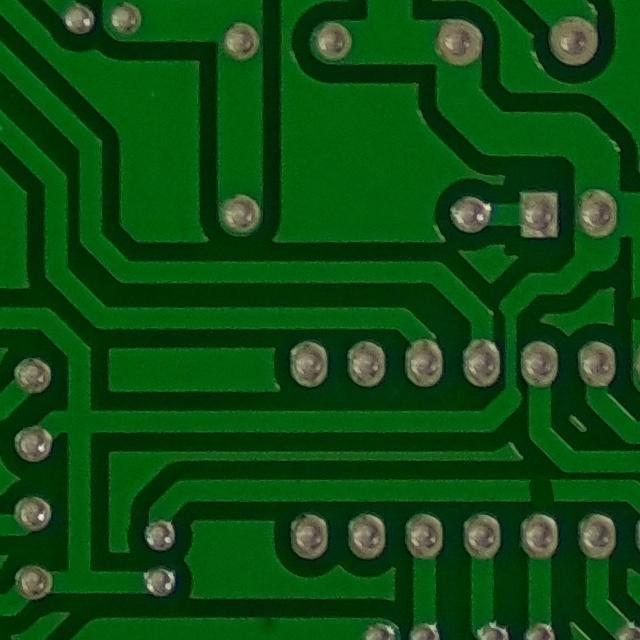open_circuit: (512, 467, 573, 512)
